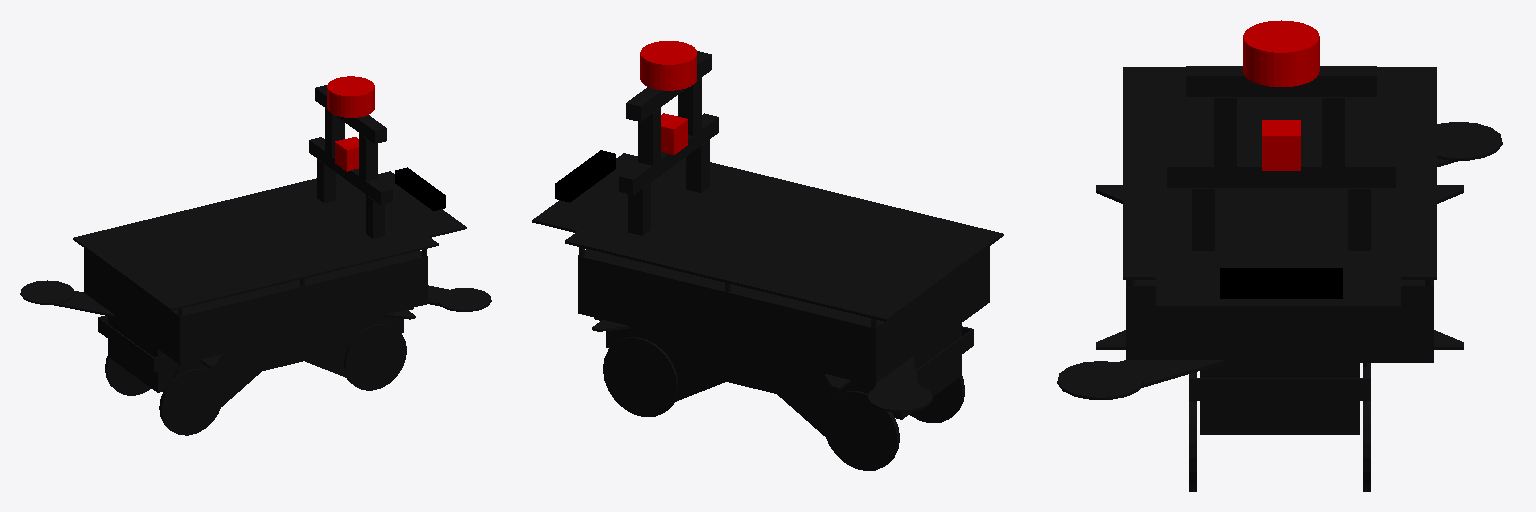
The robot description file, URDF, robot "hydra_one":
<?xml version="1.0" encoding="utf-8"?>
<!-- =================================================================================== -->         
<!--   This URDF contains a robot model with Velocity Controllers and various sensors -->
<!--               THis file contains planar_move plugin that moves the robot         -->
<!-- =================================================================================== -->
<robot name="hydra_one">

   <material name="red">
     <color rgba="0.8 0 0 1"/>
   </material>

    <material name="green">
        <color rgba="0 0.8 0 1"/>
    </material>

    <material name="black">
        <color rgba="0 0 0 1"/>
    </material>

    <material name="blue">
        <color rgba="0 0 0.8 1"/>
    </material>

  <!-- in kg-->
  <!-- BASE FOOTPRINT -->
  <link name="hydra_one_base_footprint">
    <visual>
      <origin rpy="0 0 0" xyz="0 0 0"/>
      <geometry>
        <box size="0.001 0.001 0.001"/>
      </geometry>
    </visual>
  </link>

  <joint name="hydra_one_base_footprint_joint" type="fixed">
    <origin rpy="0 0 0" xyz="0 0 0.127"/>
    <!-- ${wheel_radius} property must be defined inside wheel description -->
    <parent link="hydra_one_base_footprint"/>
    <child link="hydra_one_base_link"/>
  </joint>

  <!-- BASE_LINK -->
  <link name="hydra_one_base_link">
    <inertial>
      <mass value="125.0"/>
      <origin xyz="0 0 0"/>
      <inertia ixx="1.391" ixy="0.004" ixz="0.0" iyy="6.853" iyz="0.0" izz="6.125"/>
    </inertial>
    <visual>
      <origin rpy="0 0 0" xyz="0 0 0"/>
      <geometry>
        <mesh filename="package://hydra_one_description/models/hydra_one/meshes/base/hydra_base_frame.dae"/>
      </geometry>
      <material name="darkgrey">
        <color rgba="0.1 0.1 0.1 1"/>
      </material>
    </visual>
    <collision>
      <origin rpy="0 0 0 " xyz="0 0 0"/>
      <geometry>
        <mesh filename="package://hydra_one_description/models/hydra_one/meshes/base/hydra_base_frame.dae"/>
      </geometry>
    </collision>
  </link>

  <!-- FRONT_RIGHT_WHEEL_LINK -->
  <link name="hydra_one_front_right_wheel_link">
    <visual>
      <origin rpy="0 0 0" xyz="0 0 0"/>
      <geometry>
        <mesh filename="package://hydra_one_description/models/hydra_one/meshes/wheels/omni_wheel_2.dae"/>
      </geometry>
    </visual>
    <collision>
      <origin rpy="1.57079632679 0 0" xyz="0 0 0"/>
      <geometry>
        <cylinder length="0.087" radius="0.127"/>
      </geometry>
    </collision>
    <inertial>
      <mass value="6.5"/>
      <origin xyz="0 0 0"/>
      <inertia ixx="0.0303095" ixy="0" ixz="0" iyy="0.05241925" iyz="0" izz="0.0303095"/>
    </inertial>
  </link>
  <gazebo reference="hydra_one_front_right_wheel_link">
    <mu1 value="1.0"/>
    <mu2 value="1.0"/>
    <kp value="10000000.0"/>
    <kd value="1.0"/>
    <fdir1 value="1 0 0"/>
    <turnGravityOff>false</turnGravityOff>
  </gazebo>

  <!-- FRONT_RIGHT_WHEEL_JOINT -->
  <joint name="hydra_one_front_right_wheel_joint" type="continuous">
    <parent link="hydra_one_base_link"/>
    <child link="hydra_one_front_right_wheel_link"/>
    <origin rpy="0 0 0" xyz="0.2225 -0.2045 0.0"/>
    <axis rpy="0 0 0" xyz="0 1 0"/>
    <limit effort="100" velocity="100"/>
    <joint_properties damping="0.0" friction="0.0"/>
  </joint>

  <!-- Transmission is important to link the joints and the controller -->
  <transmission name="hydra_one_front_right_wheel_joint_trans">
    <type>transmission_interface/SimpleTransmission</type>
    <joint name="hydra_one_front_right_wheel_joint">
      <hardwareInterface>hardware_interface/VelocityJointInterface</hardwareInterface>
    </joint>
    <actuator name="hydra_one_front_right_wheel_joint_motor">
      <hardwareInterface>hardware_interface/VelocityJointInterface</hardwareInterface>
      <mechanicalReduction>1</mechanicalReduction>
    </actuator>
  </transmission> 

  <!-- FRONT_LEFT_WHEEL_LINK -->
  <link name="hydra_one_front_left_wheel_link">
    <visual>
      <origin rpy="0 0 0" xyz="0 0 0"/>
      <geometry>
        <mesh filename="package://hydra_one_description/models/hydra_one/meshes/wheels/omni_wheel_1.dae"/>
      </geometry>
    </visual>
    <collision>
      <origin rpy="1.57079632679 0 0" xyz="0 0 0"/>
      <geometry>
        <cylinder length="0.087" radius="0.127"/>
      </geometry>
    </collision>
    <inertial>
      <mass value="6.5"/>
      <origin xyz="0 0 0"/>
      <inertia ixx="0.0303095" ixy="0" ixz="0" iyy="0.05241925" iyz="0" izz="0.0303095"/>
    </inertial>
  </link>
  <gazebo reference="hydra_one_front_left_wheel_link">
    <mu1 value="1.0"/>
    <mu2 value="1.0"/>
    <kp value="10000000.0"/>
    <kd value="1.0"/>
    <fdir1 value="1 0 0"/>
    <turnGravityOff>false</turnGravityOff>
  </gazebo>

  <joint name="hydra_one_front_left_wheel_joint" type="continuous">
    <parent link="hydra_one_base_link"/>
    <child link="hydra_one_front_left_wheel_link"/>
    <origin rpy="0 0 0" xyz="0.2225 0.2045 0.0"/>
    <axis rpy="0 0 0" xyz="0 1 0"/>
    <limit effort="100" velocity="100"/>
    <joint_properties damping="0.0" friction="0.0"/>
  </joint>

  <!-- Transmission is important to link the joints and the controller -->
  <transmission name="hydra_one_front_left_wheel_joint_trans">
    <type>transmission_interface/SimpleTransmission</type>
    <joint name="hydra_one_front_left_wheel_joint">
      <hardwareInterface>hardware_interface/VelocityJointInterface</hardwareInterface>
    </joint>
    <actuator name="hydra_one_front_left_wheel_joint_motor">
      <hardwareInterface>hardware_interface/VelocityJointInterface</hardwareInterface>
      <mechanicalReduction>1</mechanicalReduction>
    </actuator>
  </transmission> 

  <!-- BACK_LEFT_WHEEL_LINK -->
 <link name="hydra_one_back_left_wheel_link">
    <visual>
      <origin rpy="0 0 0" xyz="0 0 0"/>
      <geometry>
        <mesh filename="package://hydra_one_description/models/hydra_one/meshes/wheels/omni_wheel_1.dae"/>
      </geometry>
    </visual>
    <collision>
      <origin rpy="1.57079632679 0 0" xyz="0 0 0"/>
      <geometry>
        <cylinder length="0.087" radius="0.127"/>
      </geometry>
    </collision>
    <inertial>
      <mass value="6.5"/>
      <origin xyz="0 0 0"/>
      <inertia ixx="0.0303095" ixy="0" ixz="0" iyy="0.05241925" iyz="0" izz="0.0303095"/>
    </inertial>
  </link>
  <gazebo reference="hydra_one_back_left_wheel_link">
    <mu1 value="1.0"/>
    <mu2 value="1.0"/>
    <kp value="10000000.0"/>
    <kd value="1.0"/>
    <fdir1 value="1 0 0"/>
    <turnGravityOff>false</turnGravityOff>
  </gazebo>

  <joint name="hydra_one_back_left_wheel_joint" type="continuous">
    <parent link="hydra_one_base_link"/>
    <child link="hydra_one_back_left_wheel_link"/>
    <origin rpy="0 0 0" xyz="-0.2225 0.2045 0.0"/>
    <axis rpy="0 0 0" xyz="0 1 0"/>
    <limit effort="100" velocity="100"/>
    <joint_properties damping="0.0" friction="0.0"/>
  </joint>
 
  <!-- Transmission is important to link the joints and the controller -->
  <transmission name="hydra_one_back_left_wheel_joint_trans">
    <type>transmission_interface/SimpleTransmission</type>
    <joint name="hydra_one_back_left_wheel_joint">
      <hardwareInterface>hardware_interface/VelocityJointInterface</hardwareInterface>
    </joint>
    <actuator name="hydra_one_back_left_wheel_joint_motor">
      <hardwareInterface>hardware_interface/VelocityJointInterface</hardwareInterface>
      <mechanicalReduction>1</mechanicalReduction>
    </actuator>
  </transmission>

  <!-- BACK_RIGHT_WHEEL_LINK -->
  <link name="hydra_one_back_right_wheel_link">
    <visual>
      <origin rpy="0 0 0" xyz="0 0 0"/>
      <geometry>
        <mesh filename="package://hydra_one_description/models/hydra_one/meshes/wheels/omni_wheel_2.dae"/>
      </geometry>
    </visual>
    <collision>
      <origin rpy="1.57079632679 0 0" xyz="0 0 0"/>
      <geometry>
        <cylinder length="0.087" radius="0.127"/>
      </geometry>
    </collision>
    <inertial>
      <mass value="6.5"/>
      <origin xyz="0 0 0"/>
      <inertia ixx="0.0303095" ixy="0" ixz="0" iyy="0.05241925" iyz="0" izz="0.0303095"/>
    </inertial>
  </link>
  <gazebo reference="hydra_one_back_right_wheel_link">
    <mu1 value="1.0"/>
    <mu2 value="1.0"/>
    <kp value="10000000.0"/>
    <kd value="1.0"/>
    <fdir1 value="1 0 0"/>
    <turnGravityOff>false</turnGravityOff>
  </gazebo>

  <joint name="hydra_one_back_right_wheel_joint" type="continuous">
    <parent link="hydra_one_base_link"/>
    <child link="hydra_one_back_right_wheel_link"/>
    <origin rpy="0 0 0" xyz="-0.2225 -0.2045 0.0"/>
    <axis rpy="0 0 0" xyz="0 1 0"/>
    <limit effort="100" velocity="100"/>
    <joint_properties damping="0.0" friction="0.0"/>
  </joint>

  <!-- Transmission is important to link the joints and the controller -->
  <transmission name="hydra_one_back_right_wheel_joint_trans">
    <type>transmission_interface/SimpleTransmission</type>
    <joint name="hydra_one_back_right_wheel_joint">
      <hardwareInterface>hardware_interface/VelocityJointInterface</hardwareInterface>
    </joint>
    <actuator name="hydra_one_back_right_wheel_joint_motor">
      <hardwareInterface>hardware_interface/VelocityJointInterface</hardwareInterface>
      <mechanicalReduction>1</mechanicalReduction>
    </actuator>
  </transmission>

<!-- Default plugin that parses the transmission tags and loads the appropriate hardware interfaces and controller manager 
<gazebo>
  <plugin name="gazebo_ros_control" filename="libgazebo_ros_control.so">
     <robotNamespace>/hydra_one</robotNamespace>
  </plugin>
</gazebo> -->

  <gazebo>
    <plugin filename="libgazebo_ros_planar_move.so" name="omni_steering">
      <commandTopic>cmd_vel</commandTopic>
      <odometryTopic>odom</odometryTopic>
      <odometryFrame>odom</odometryFrame>
      <odometryRate>50.0</odometryRate>
      <robotBaseFrame>hydra_one_base_footprint</robotBaseFrame>
      <publishTF>true</publishTF>
    </plugin>
  </gazebo>

<!-- Front lower camera -->
<!-- Reference: http://gazebosim.org/tutorials?tut=ros_gzplugins -->
<!-- Define link, joint, gazebo reference for the link,  and Gazebo plugin for the camera -->
 <link name="front_lower_camera_link">
    <inertial>
      <mass value="0.01"/>
      <origin rpy="0 0 0" xyz="0 0 0"/>
      <inertia ixx="1.6e-5" ixy="0.0" ixz="0.0" iyy="1.6e-5" iyz="0.0" izz="1.6e-5"/>
    </inertial>
    <visual>
      <origin rpy="0 0 0" xyz="0 0 0"/>
      <geometry>
        <box size= "0.05 0.05 0.05"/>
      </geometry>
      <material name="red"/>
    </visual>
  </link>
    <gazebo reference="front_lower_camera_link">
        <material>Gazebo/Red</material>
    </gazebo>
  <joint name="front_lower_camera_joint" type="fixed">
    <parent link="hydra_one_base_link"/>
    <child link="front_lower_camera_link"/>
    <origin xyz="0.23158 0.001881 0.42053" rpy="0 0 0"/>
  </joint>

<!-- gazebo reference and plugin for the camera -->
  <gazebo reference="front_lower_camera_link">
    <sensor type="camera" name="front_lower_camera_sensor">
      <update_rate>30.0</update_rate>
      <camera name="front_lower_camera">
        <pose> 0 0 0 0 0 0 </pose>
        <horizontal_fov>1.3962634</horizontal_fov>
        <image>
          <width>800</width>
          <height>800</height>
          <format>R8G8B8</format>
        </image>
        <clip>
          <near>0.02</near>
          <far>300</far>
        </clip>
        <noise>
          <type>gaussian</type>
          <mean>0.0</mean>
          <stddev>0.007</stddev>
        </noise>
      </camera>
      <plugin name="front_lower_camera_controller" filename="libgazebo_ros_camera.so">
        <alwaysOn>false</alwaysOn>
        <updateRate>0.0</updateRate>
        <cameraName>/hydra_one/front_lower_camera_sensor</cameraName>
        <imageTopicName>image_raw</imageTopicName>
        <cameraInfoTopicName>/hydra_one/front_lower_camera_info</cameraInfoTopicName>
        <frameName>front_lower_camera_link</frameName>
        <hackBaseline>0.07</hackBaseline>
        <distortionK1>0.0</distortionK1>
        <distortionK2>0.0</distortionK2>
        <distortionK3>0.0</distortionK3>
        <distortionT1>0.0</distortionT1>
        <distortionT2>0.0</distortionT2>
      </plugin>
    </sensor>
  </gazebo>

<!-- front laser link -->
<!-- Define link, joint, gazebo reference for the link,  and Gazebo plugin for the laser -->
  <link name="center_laser_link">
    <inertial>
      <mass value="0.01"/>
      <origin rpy="0 0 0" xyz="0 0 0"/>
      <inertia ixx="6.93e-05" ixy="0.0" ixz="0.0" iyy="6.93e-05" iyz="0.0" izz="7.2e-05"/>
    </inertial>
    <visual>
      <origin rpy="0 0 0" xyz="0 0 0"/>
      <geometry>
        <cylinder length="0.05" radius="0.05"/>
      </geometry>
      <material name="red"/>
    </visual>
  </link>
    <gazebo reference="center_laser_link">
        <material>Gazebo/Red</material>
    </gazebo>
  <joint name="center_laser_joint" type="fixed">
    <parent link="hydra_one_base_link"/>
    <child link="center_laser_link"/>
    <origin xyz="0.23158 0.001881 0.55275" rpy="0 0 0"/>
  </joint>

<!-- gazebo reference and the plugin -->
  <gazebo reference="center_laser_link">
    <sensor name='center_laser_sensor' type='ray'>
      <ray>
        <scan>
          <horizontal>
            <samples>720</samples>
            <resolution>1</resolution>
            <min_angle>-1.570796</min_angle>
            <max_angle>1.570796</max_angle>
          </horizontal>
          <!--<vertical>
            <samples>16</samples>
            <min_angle>-0.1</min_angle>
            <max_angle>-0.35</max_angle>
          </vertical> -->
        </scan>
        <range>
          <min>0.0</min>
          <max>10.0</max>
          <resolution>0.01</resolution>
        </range>
      </ray>
      <plugin name='center_laser_controller' filename='libgazebo_ros_laser.so'>
        <topicName>/hydra_one/laser/scan</topicName>
        <frameName>center_laser_link</frameName>
      </plugin>
      <always_on>1</always_on>
      <update_rate>40</update_rate>
      <visualize>1</visualize>
    </sensor>
  </gazebo>

<!-- front depth_sensor link -->
<!-- Define link, joint, gazebo reference for the link,  and Gazebo plugin for the laser -->
  <link name="front_depth_sensor_link">
    <inertial>
      <mass value="0.01"/>
      <origin rpy="0 0 0" xyz="0 0 0"/>
      <inertia ixx="6.93e-05" ixy="0.0" ixz="0.0" iyy="6.93e-05" iyz="0.0" izz="7.2e-05"/>
    </inertial>
    <visual>
      <origin rpy="0 0 0" xyz="0 0 0"/>
      <geometry>
        <box size= "0.03 0.16 0.03"/>
      </geometry>
      <material name="black"/>
    </visual>
  </link>
    <gazebo reference="front_depth_sensor_link">
        <material>Gazebo/Black</material>
    </gazebo>
  <joint name="front_depth_sensor_joint" type="fixed">
    <parent link="hydra_one_base_link"/>
    <child link="front_depth_sensor_link"/>
    <origin xyz="0.40000 0.001881 0.2999" rpy="0 0 0"/>
  </joint>

<gazebo reference="front_depth_sensor_link">
  <sensor name="front_depth_sensor_camera" type="depth">
    <update_rate>20</update_rate>
    <camera>
      <horizontal_fov>1.047198</horizontal_fov>
      <image>
        <width>640</width>
        <height>480</height>
        <format>R8G8B8</format>
      </image>
      <clip>
        <near>0.05</near>
        <far>3</far>
      </clip>
    </camera>
    <plugin name="front_depth_sensor_controller" filename="libgazebo_ros_openni_kinect.so">
      <baseline>0.2</baseline>
      <alwaysOn>true</alwaysOn>
      <updateRate>1.0</updateRate>
      <cameraName>/hydra_one/front_depth_sensor_camera_ir</cameraName>
      <imageTopicName>hydra_one/front_depth_sensor_camera/color/image_raw</imageTopicName>
      <cameraInfoTopicName>/hydra_one/front_depth_sensor_camera/color/camera_info</cameraInfoTopicName>
      <depthImageTopicName>hydra_one/front_depth_sensor_camera/depth/image_raw</depthImageTopicName>
      <depthImageInfoTopicName>hydra_one/front_depth_sensor_camera/depth/camera_info</depthImageInfoTopicName>
      <pointCloudTopicName>hydra_one/front_depth_sensor_camera/depth/points</pointCloudTopicName>
      <frameName>front_depth_sensor_link</frameName>
      <pointCloudCutoff>0.5</pointCloudCutoff>
      <pointCloudCutoffMax>3.0</pointCloudCutoffMax>
      <distortionK1>0.00000001</distortionK1>
      <distortionK2>0.00000001</distortionK2>
      <distortionK3>0.00000001</distortionK3>
      <distortionT1>0.00000001</distortionT1>
      <distortionT2>0.00000001</distortionT2>
      <CxPrime>0</CxPrime>
      <Cx>0</Cx>
      <Cy>0</Cy>
      <focalLength>0</focalLength>
      <hackBaseline>0</hackBaseline>
    </plugin>
  </sensor>
</gazebo>

  <gazebo>
    <plugin name="p3d" filename="libgazebo_ros_p3d.so">
      <!-- <robotNamespace>/hydra_one</robotNamespace> -->
      <bodyName>hydra_one_base_footprint</bodyName>
      <topicName>base_pose_ground_truth</topicName>
      <frameName>map</frameName>
      <updateRate>100.0</updateRate>
    </plugin>
  </gazebo>


</robot>

--- Facts derived from the render (not from the file) ---
3 views of the same robot in one strip: view 1: azimuth 30°, elevation 25°; view 2: azimuth 150°, elevation 25°; view 3: azimuth 270°, elevation 25° (orthographic).
Model hydra_one with 9 links and 8 joints (4 continuous, 4 fixed), rooted at hydra_one_base_footprint, posed every joint at zero.
Visible links, largest first — view 1: hydra_one_base_link, center_laser_link, front_depth_sensor_link, front_lower_camera_link; view 2: hydra_one_base_link, center_laser_link, front_depth_sensor_link, front_lower_camera_link; view 3: hydra_one_base_link, center_laser_link, front_depth_sensor_link, front_lower_camera_link.
Boxes of the visible links, x1=… form: hydra_one_base_link: x1=20, y1=85, x2=491, y2=435; center_laser_link: x1=327, y1=76, x2=374, y2=117; front_depth_sensor_link: x1=395, y1=167, x2=445, y2=210; front_lower_camera_link: x1=335, y1=137, x2=358, y2=171; hydra_one_base_link: x1=532, y1=51, x2=1003, y2=470; center_laser_link: x1=640, y1=41, x2=696, y2=90; front_depth_sensor_link: x1=555, y1=150, x2=615, y2=202; front_lower_camera_link: x1=661, y1=113, x2=687, y2=154; hydra_one_base_link: x1=1057, y1=66, x2=1502, y2=491; center_laser_link: x1=1243, y1=20, x2=1319, y2=86; front_depth_sensor_link: x1=1220, y1=268, x2=1342, y2=298; front_lower_camera_link: x1=1262, y1=120, x2=1300, y2=170.
Bounding box of the posed robot: 0.8543 × 0.5821 × 0.7053 m (x, y, z).
1 mesh visuals loaded from 3 distinct referenced files (1 Collada DAE); not drawn: 4 (reference not matched to a file when rendering).
